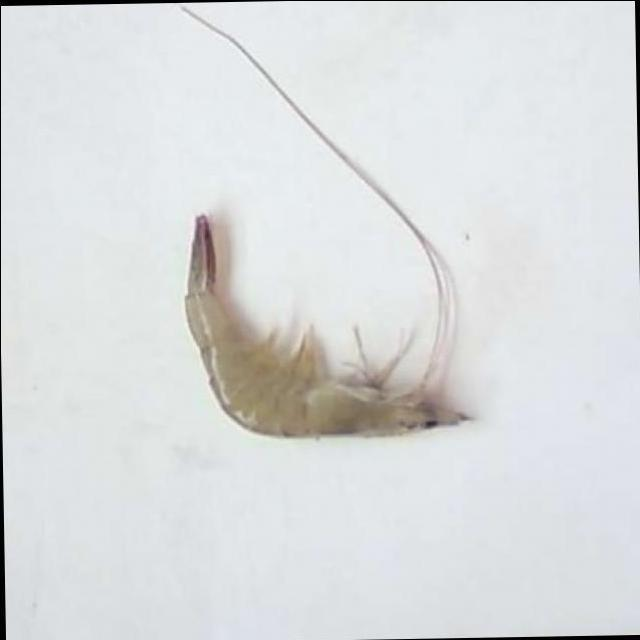shrimp: (185, 215, 470, 438)
